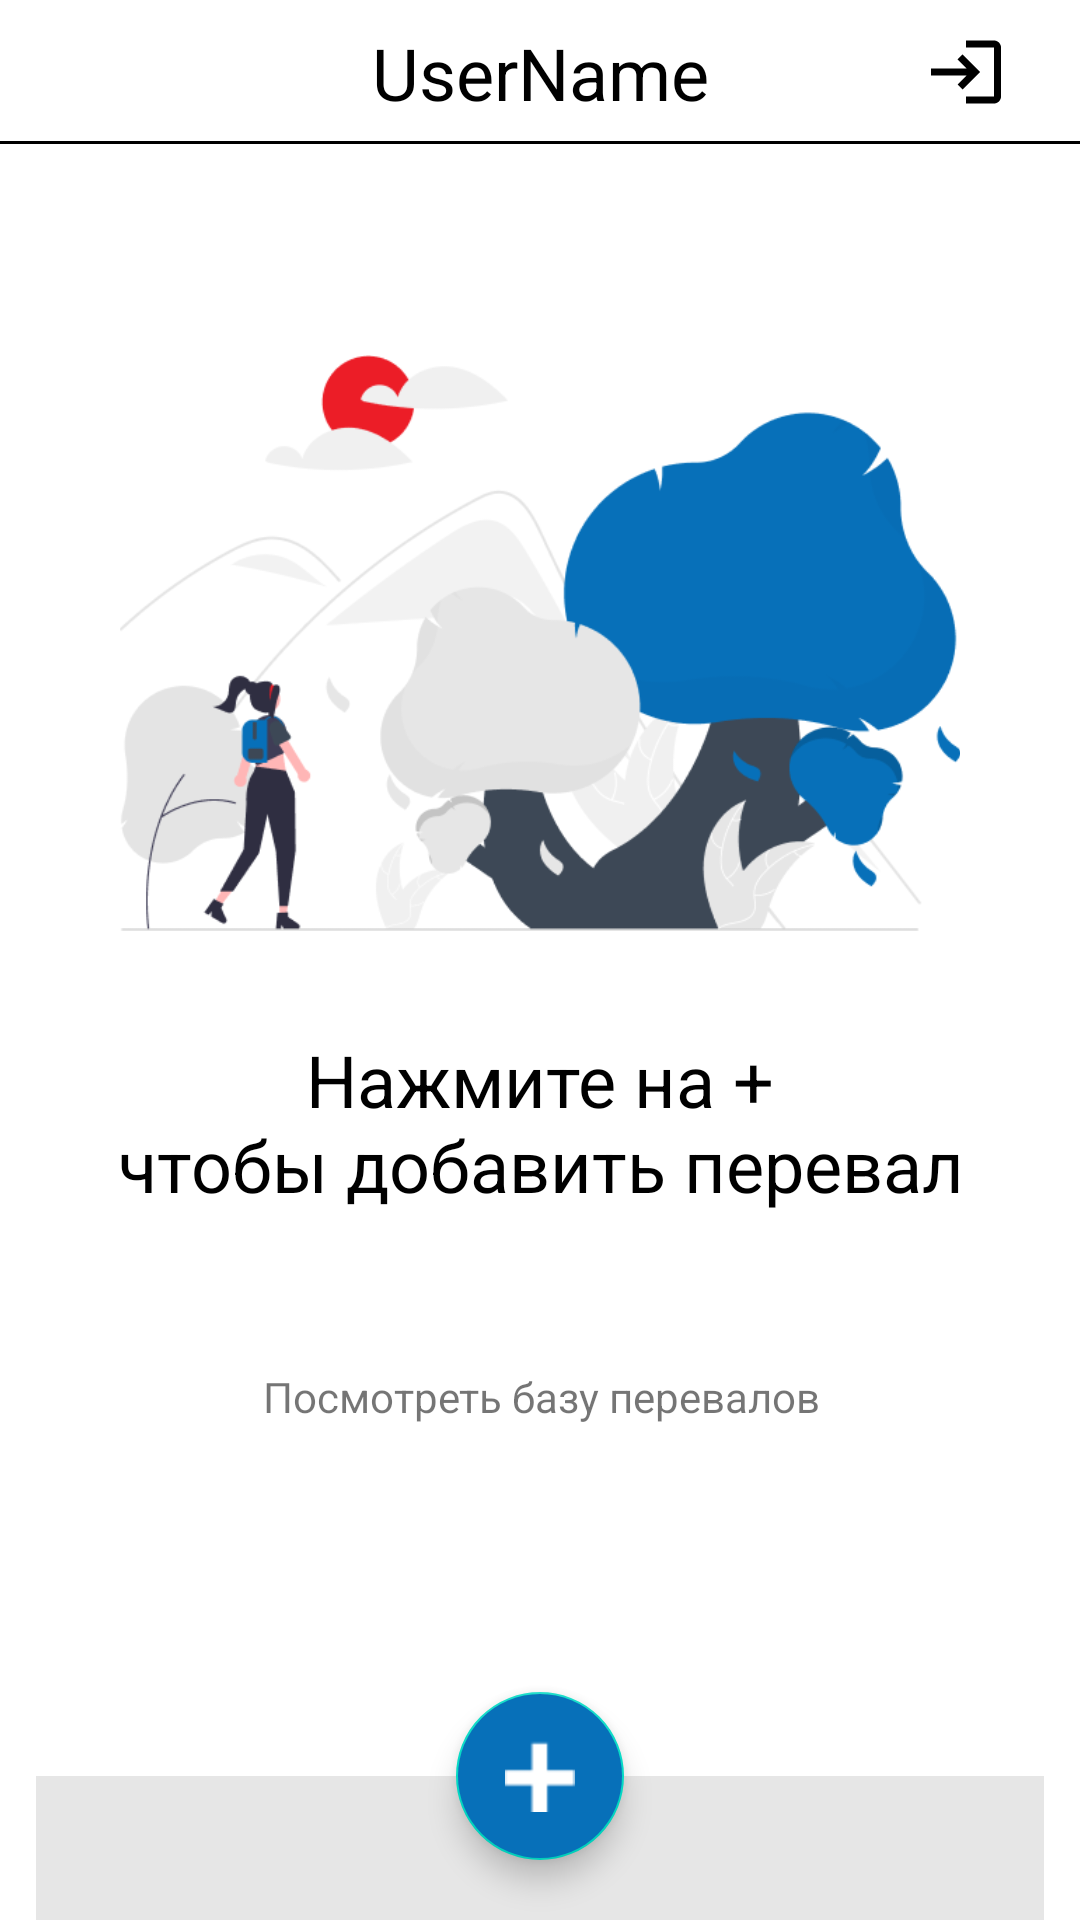

Named icons in this screenshot (1080×1920) and their centers, [x,y]:
login: [966,72]
plus: [540,1776]
